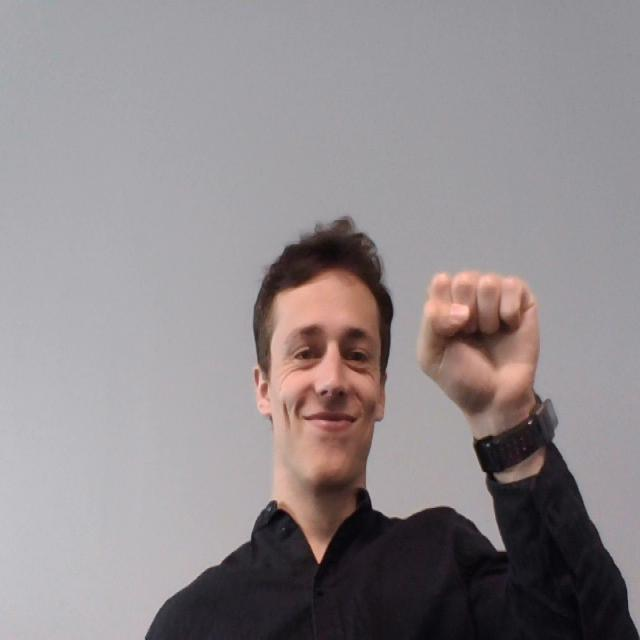stop: (407, 269, 560, 411)
